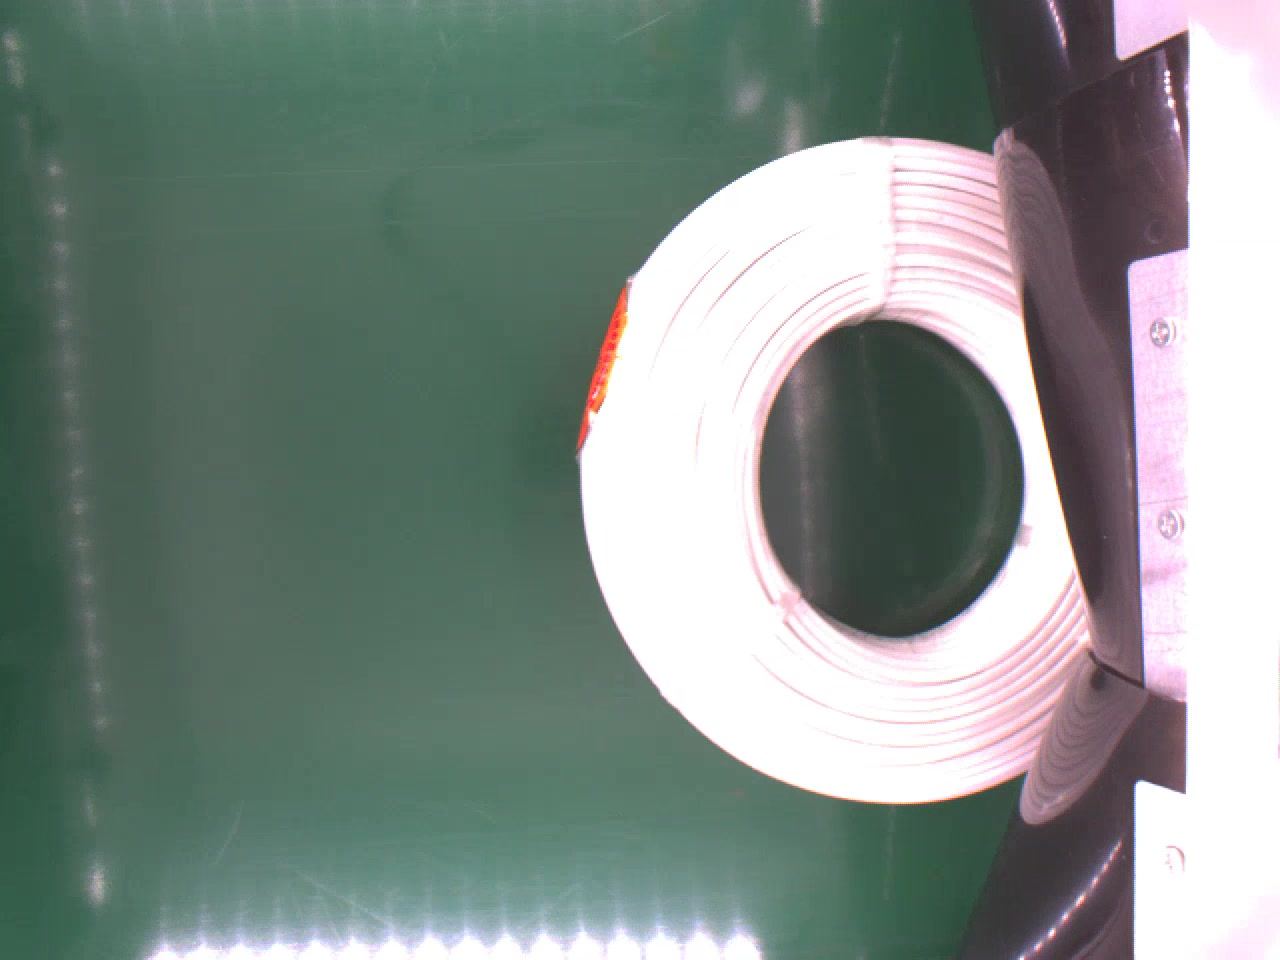white: (566, 131, 1096, 818)
